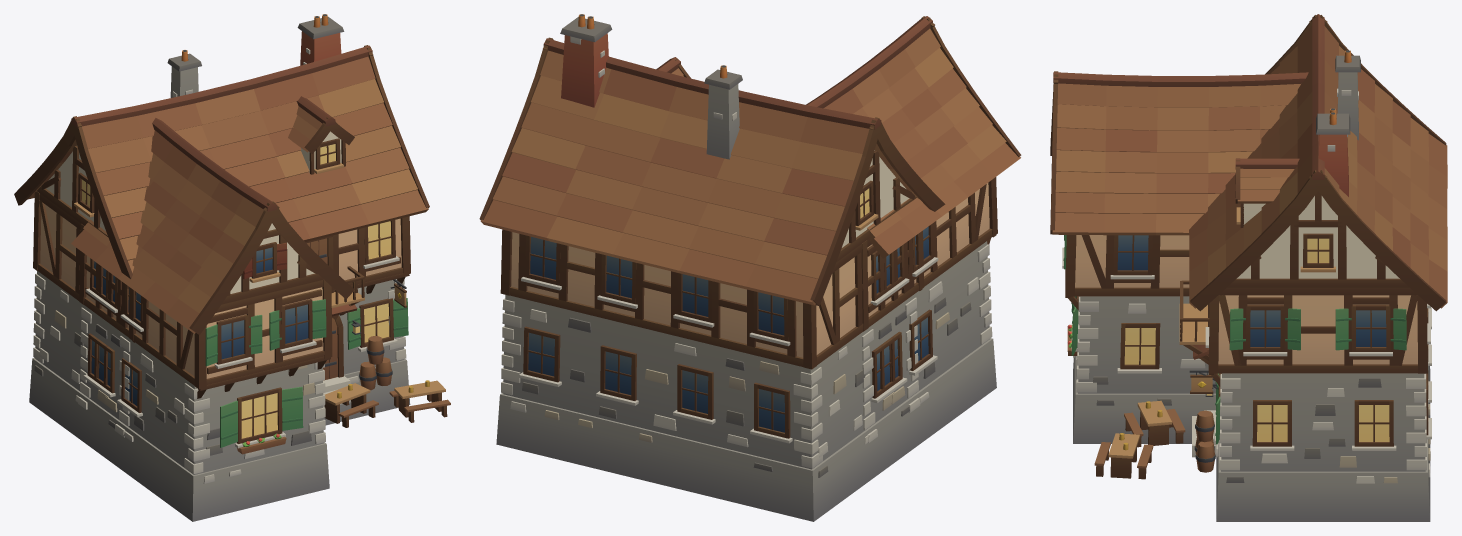
The model's file is lm_tavern.glb.
The picture shows the model from 3 angles, left to right: view 1: azimuth 30°, elevation 25°; view 2: azimuth 150°, elevation 25°; view 3: azimuth 270°, elevation 25°; orthographic projection. The views are drawn at different scales.
Parts seen in each view (by area): view 1: lm_tavern; view 2: lm_tavern; view 3: lm_tavern.
Part boxes in pixels (box(x1,y1,x2,y2)): lm_tavern: box(14, 14, 450, 521); lm_tavern: box(479, 14, 1021, 521); lm_tavern: box(1050, 14, 1447, 521).
Size of the model in its own units: 38.76 by 43.68 by 40.18.
Materials: 1 (1 with a texture image).
